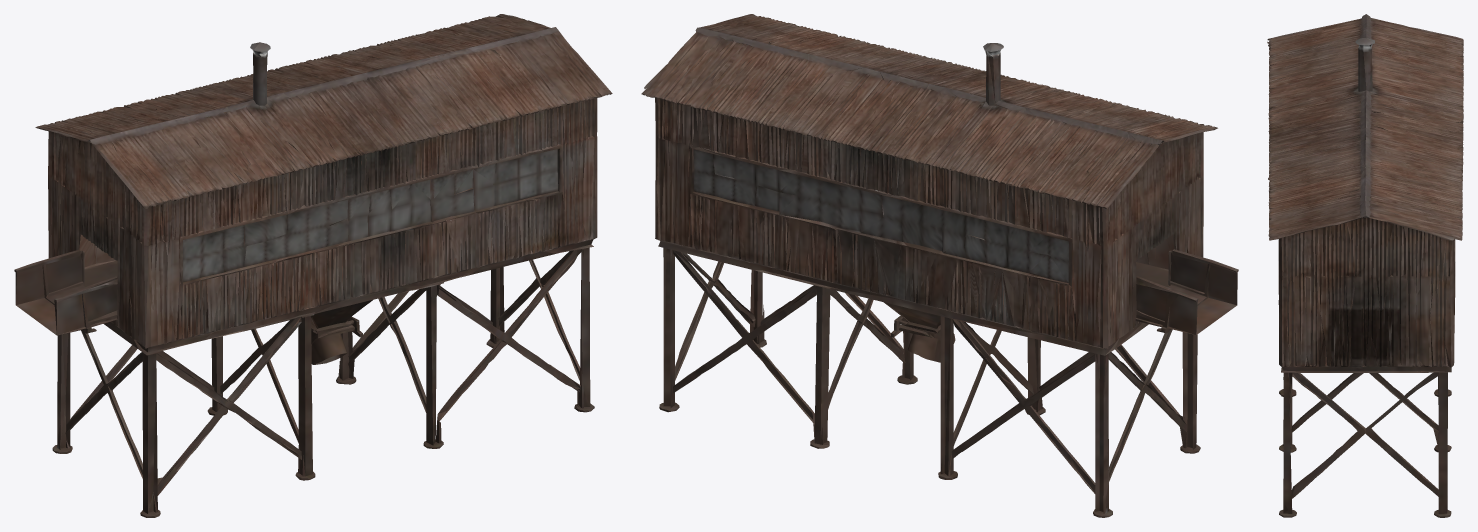
Rendered from screening_house_siebhaus.glb.
3 renders of one model, left to right at view 1: azimuth 30°, elevation 25°; view 2: azimuth 150°, elevation 25°; view 3: azimuth 270°, elevation 25°, orthographic. The views are drawn at different scales.
Size of the model in its own units: 1.9 by 1.39 by 0.6975.
Materials: 1 (1 with a texture image).
